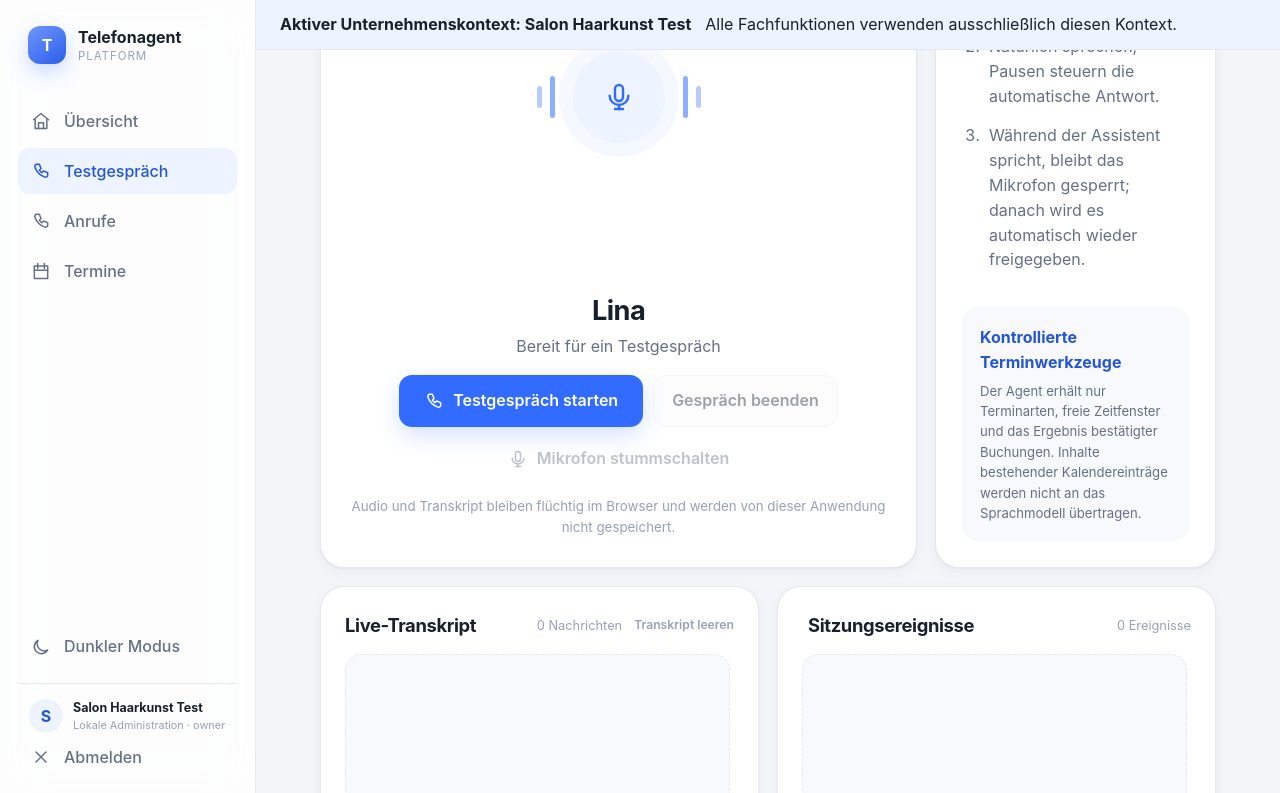
Scenario: Realtime browser voice flow › übersetzt abgelaufene Client-Secrets in einen erneuten Start
This screenshot has width=1280, height=793.
(page scrolled)
Click the button "Testgespräch starten" at [521, 401], box x1=399 y1=375 x2=643 y2=427
(page scrolled)
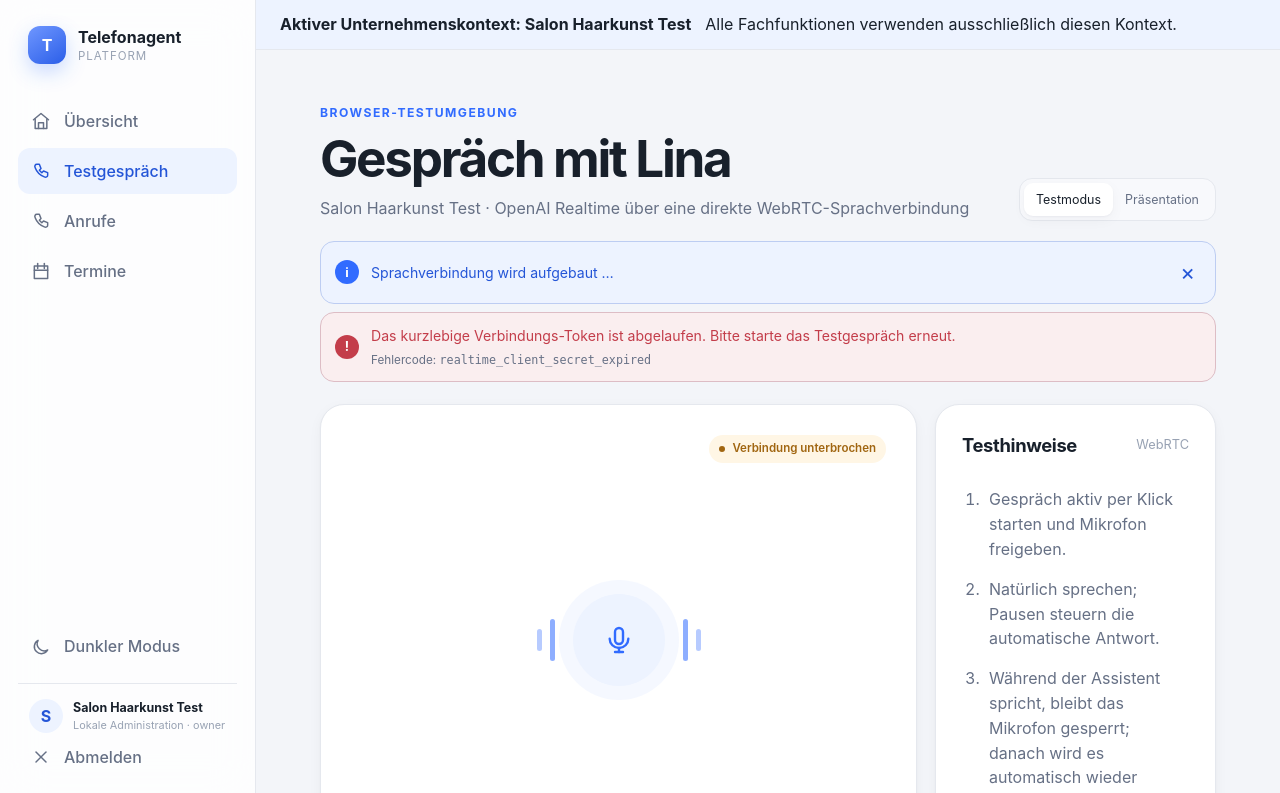
Expected: the 2nd message shows "Token ist abgelaufen", x1=371 y1=327 x2=956 y2=344
